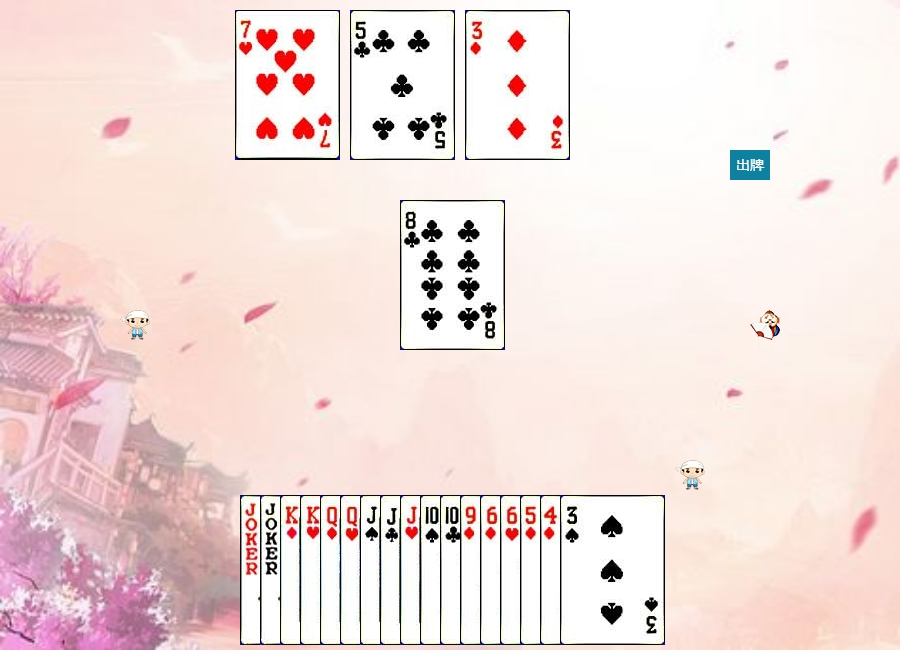10~2: (440, 495, 545, 645)
10~4: (420, 495, 525, 645)
11~2: (380, 495, 485, 645)
11~3: (400, 495, 505, 645)
11~4: (360, 495, 465, 645)
12~1: (320, 495, 425, 645)
12~3: (340, 495, 445, 645)
13~1: (280, 495, 385, 645)
13~3: (300, 495, 405, 645)
17~3: (260, 495, 365, 645)
18~4: (240, 495, 345, 645)
3~1: (465, 10, 570, 160)
3~4: (560, 495, 665, 645)
4~1: (540, 495, 645, 645)
5~1: (520, 495, 625, 645)
5~2: (350, 10, 455, 160)
6~1: (480, 495, 585, 645)
6~3: (500, 495, 605, 645)
7~3: (235, 10, 340, 160)
8~2: (400, 200, 505, 350)
9~1: (460, 495, 565, 645)
